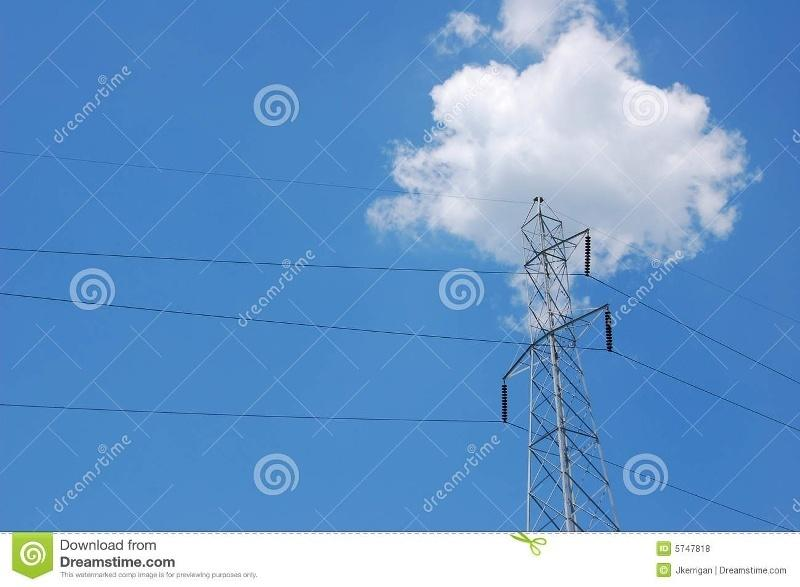power_tower: (498, 192, 632, 526)
